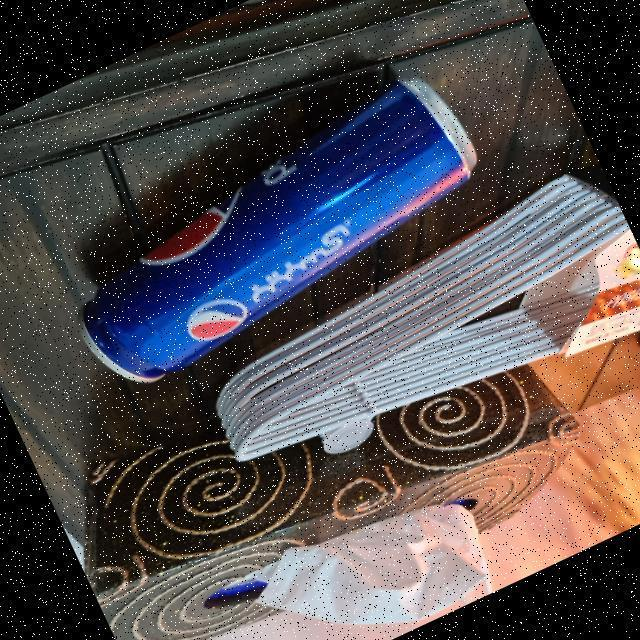can: (30, 63, 513, 414)
